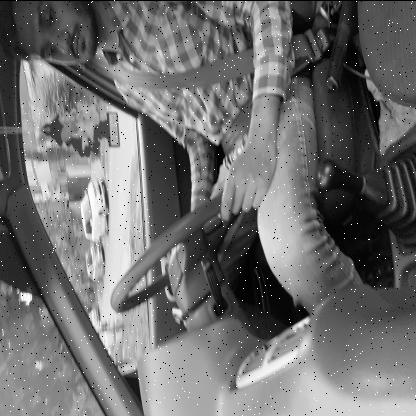seatbelt: (8, 0, 242, 104)
